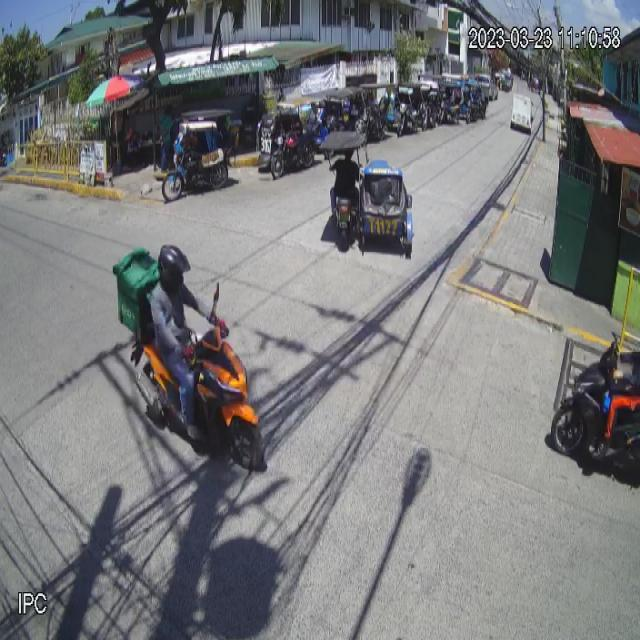Motorcycle: (129, 279, 267, 475)
Tricycle: (318, 128, 416, 260), (160, 106, 242, 202)
